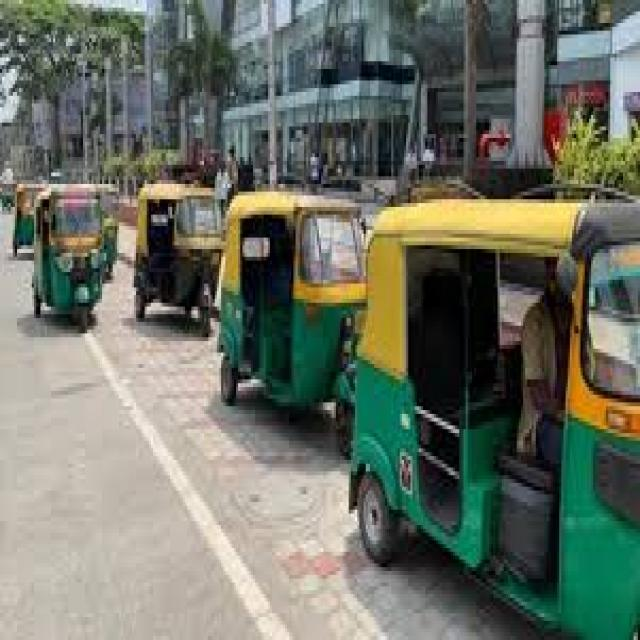Auto: (336, 200, 640, 581), (215, 202, 366, 410), (124, 176, 229, 311), (33, 190, 110, 327)
